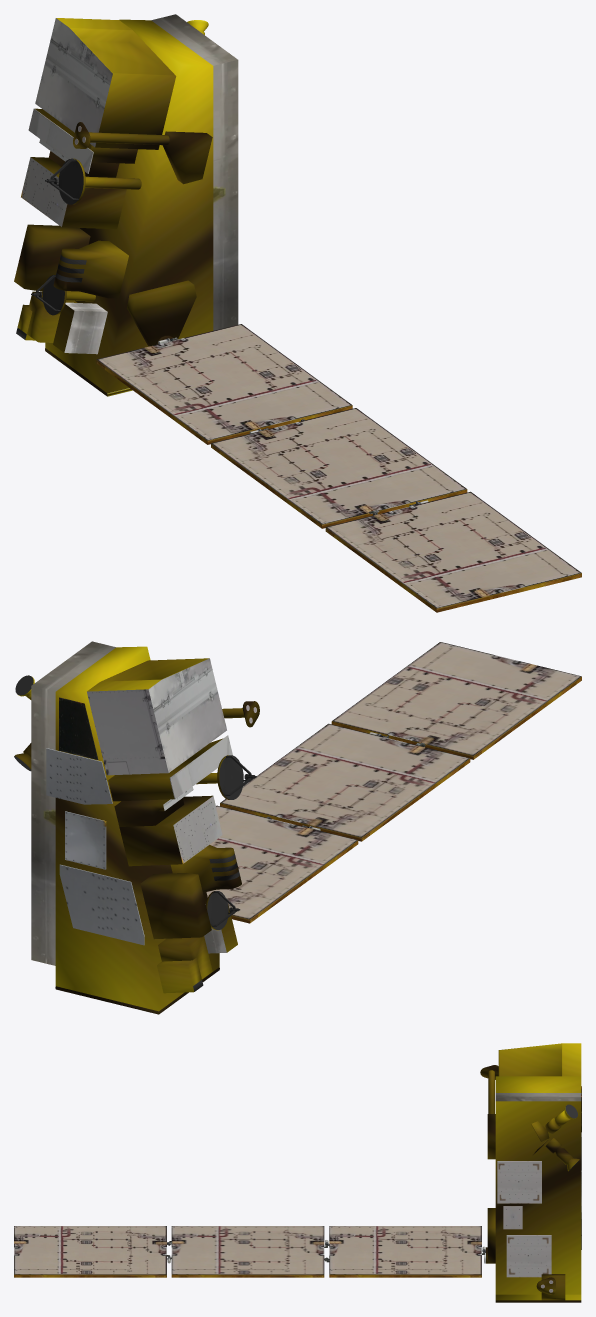
Rendered from suominpp.glb.
3 views of the same model, one above another, from view 1: azimuth 30°, elevation 25°; view 2: azimuth 150°, elevation 25°; view 3: azimuth 270°, elevation 25° (orthographic). The views are drawn at different scales.
Parts seen in each view (by area): view 1: shiny_panel, foil_gold, tex_02, AO_01; view 2: shiny_panel, foil_gold, tex_02, AO_01, foil_silver; view 3: shiny_panel, foil_gold, tex_02.
Part boxes in pixels (x1=…): shiny_panel: x1=74, y1=126, x2=581, y2=612; foil_gold: x1=14, y1=18, x2=213, y2=396; tex_02: x1=21, y1=14, x2=238, y2=354; AO_01: x1=31, y1=158, x2=83, y2=315; shiny_panel: x1=46, y1=642, x2=581, y2=945; foil_gold: x1=15, y1=646, x2=259, y2=1014; tex_02: x1=31, y1=641, x2=232, y2=965; AO_01: x1=14, y1=675, x2=256, y2=929; foil_silver: x1=193, y1=854, x2=239, y2=991; shiny_panel: x1=14, y1=1132, x2=581, y2=1292; foil_gold: x1=480, y1=1043, x2=581, y2=1302; tex_02: x1=495, y1=1086, x2=581, y2=1132.
Bounding box in the file's own units: 2.57 × 4.18 × 8.96.
5 materials, 5 textured.
